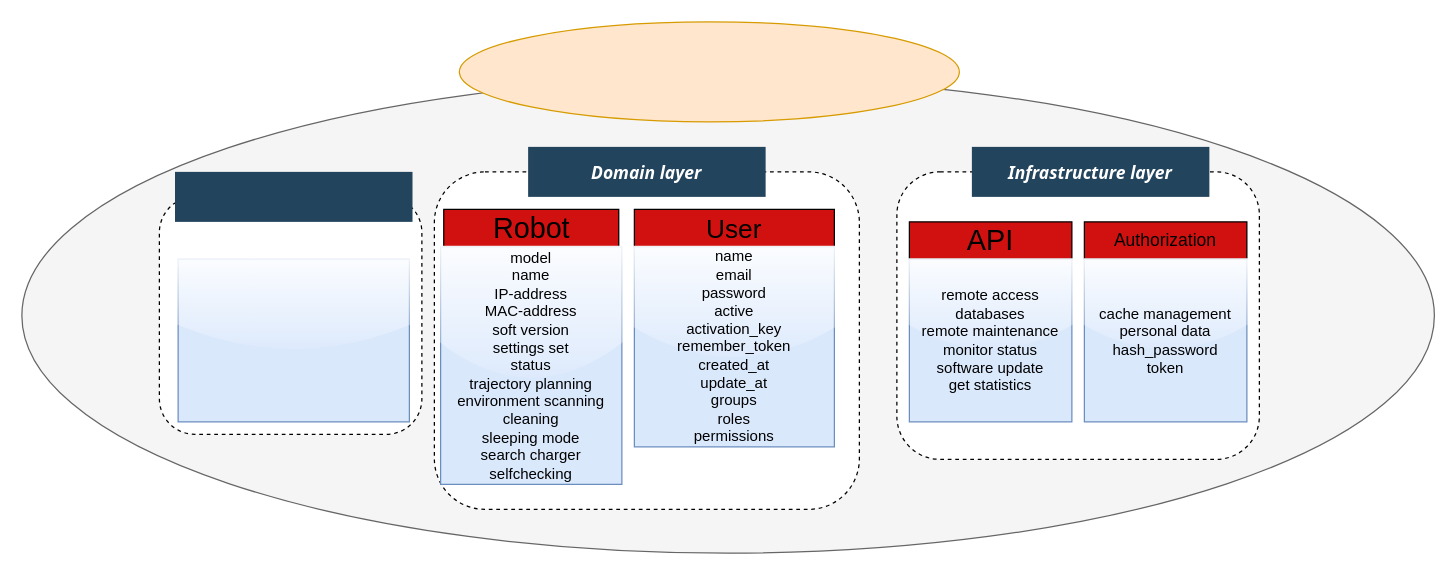
The diagram is 1456 pixels wide and 575 high, and some of its shapes have lost their labels. Here are the shapes that lost their labels. From the top down, the centre of each, then its label:
(708,71): Domain-Driven Design
(293,196): Application layer
(293,340): login/logout application UI/UX remote control get statistics status monitor
